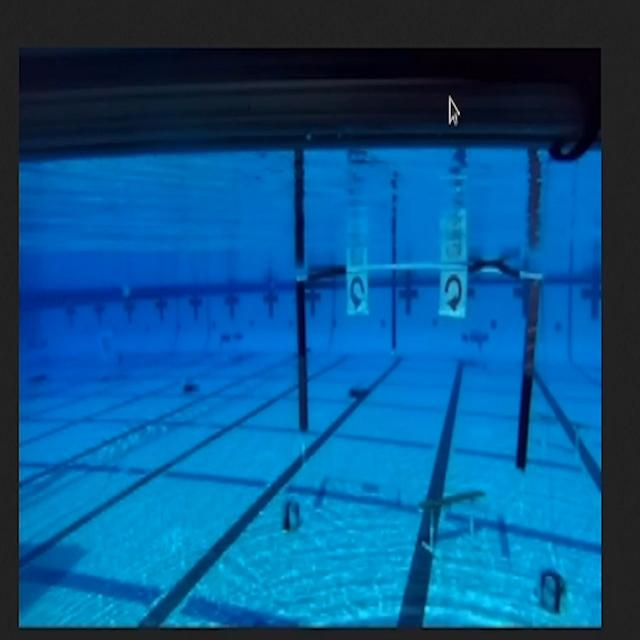Gate: (294, 250, 540, 468)
